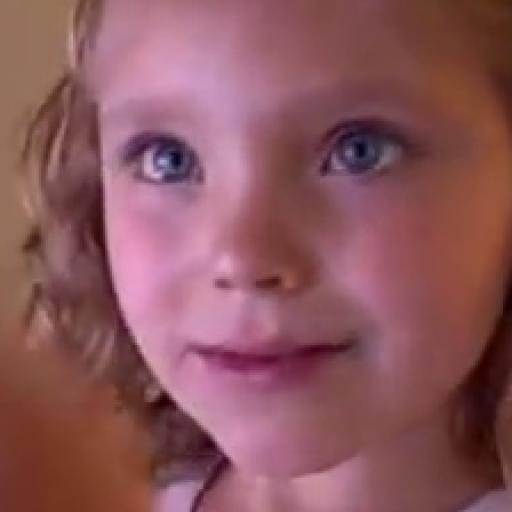Autism: (97, 17, 512, 474)
